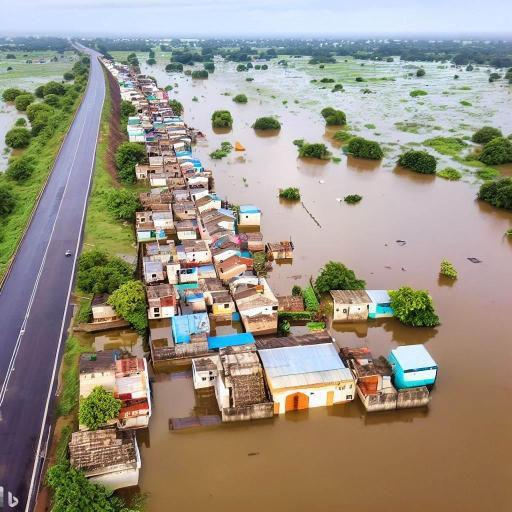flood: (138, 56, 512, 512), (0, 98, 25, 170), (0, 76, 62, 94)
house: (247, 341, 359, 407), (67, 429, 143, 492), (218, 346, 273, 422), (388, 342, 438, 394), (113, 364, 151, 432), (235, 292, 279, 336), (329, 288, 371, 324), (169, 311, 211, 341), (208, 326, 254, 352), (190, 356, 224, 390), (90, 290, 122, 323), (216, 253, 250, 282), (362, 290, 394, 319), (206, 291, 236, 321), (203, 209, 236, 233), (182, 239, 212, 265), (236, 206, 264, 232), (148, 294, 174, 322), (266, 240, 295, 260), (143, 261, 165, 285), (136, 164, 164, 180), (135, 210, 155, 232), (175, 201, 195, 222), (196, 194, 222, 210), (127, 126, 145, 142)
